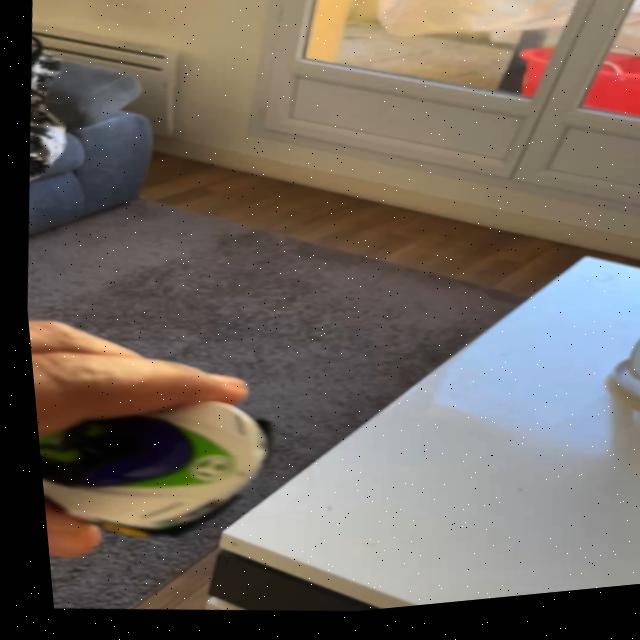yoshi: (27, 364, 308, 576)
